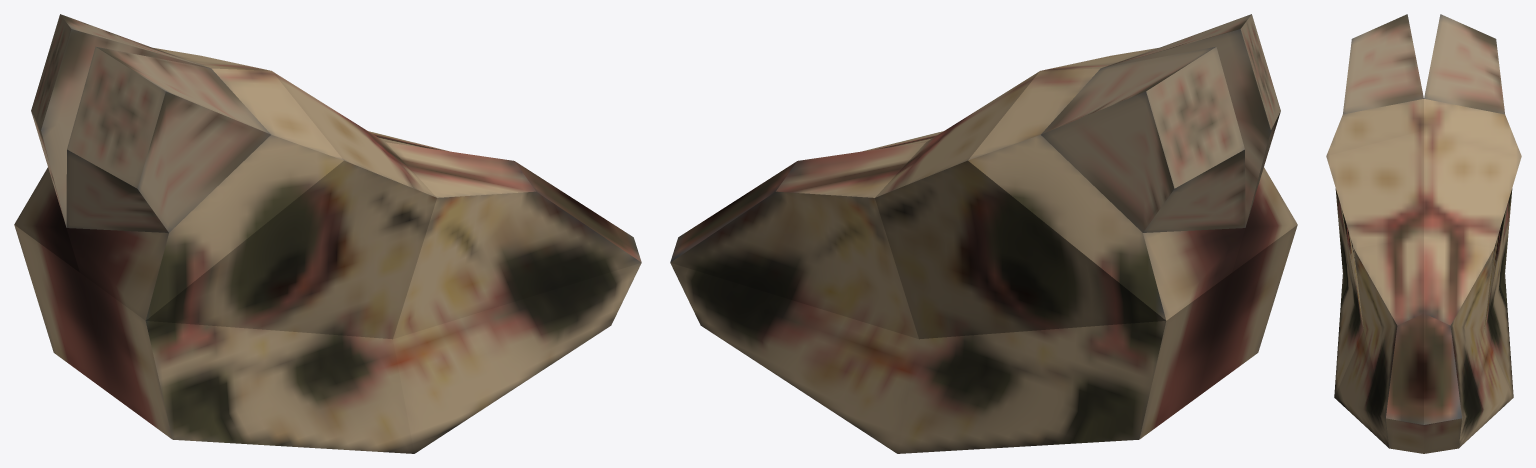
Rendered from Goat_Skull.fbx.
3 renders of one model, left to right at view 1: azimuth 30°, elevation 25°; view 2: azimuth 150°, elevation 25°; view 3: azimuth 270°, elevation 25°, orthographic. The views are drawn at different scales.
Visible parts, largest first — view 1: Goat Skull; view 2: Goat Skull; view 3: Goat Skull.
Part boxes in pixels (bbox=[...]): Goat Skull: bbox=[14, 14, 641, 453]; Goat Skull: bbox=[670, 14, 1297, 453]; Goat Skull: bbox=[1326, 14, 1521, 453].
Bounding box in the file's own units: 458 × 327 × 196.
